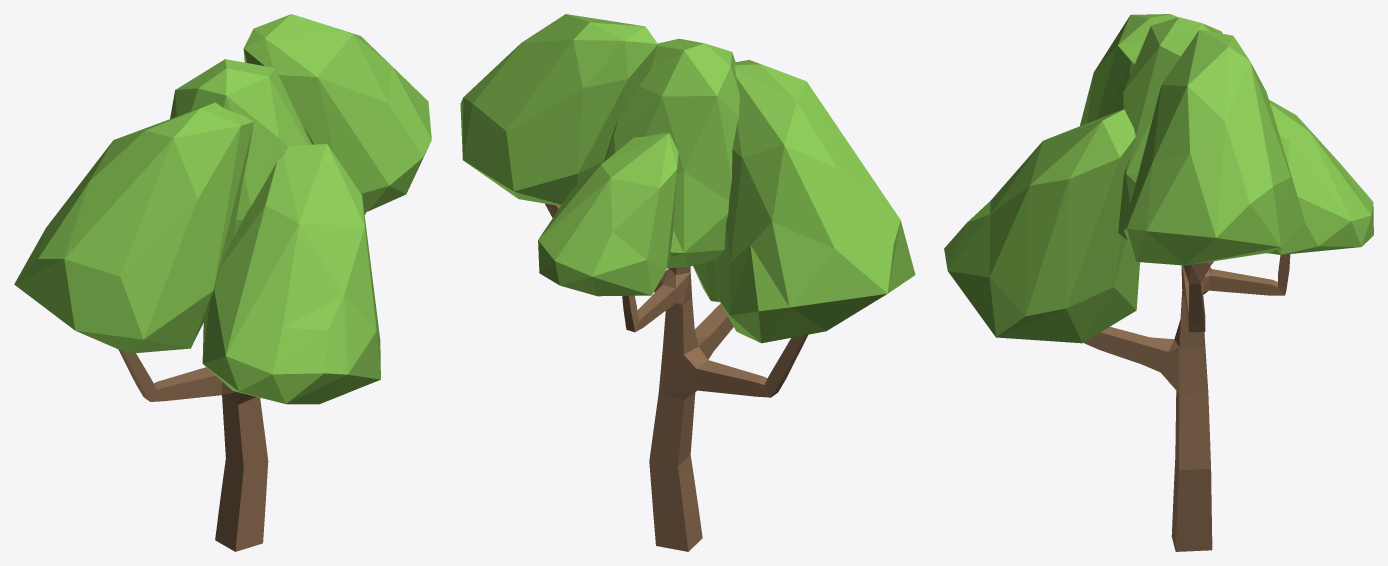
The model's file is tree01.fbx.
3 renders of one model, left to right at view 1: azimuth 30°, elevation 25°; view 2: azimuth 150°, elevation 25°; view 3: azimuth 270°, elevation 25°, orthographic. The views are drawn at different scales.
Parts seen in each view (by area): view 1: tree01_LOD0; view 2: tree01_LOD0; view 3: tree01_LOD0.
Part boxes in pixels (x1,y1,x2,y2): tree01_LOD0: (14,14,431,551); tree01_LOD0: (460,14,915,551); tree01_LOD0: (944,14,1373,551).
Size of what is drawn, in the model's own units: 346 by 398 by 291.
